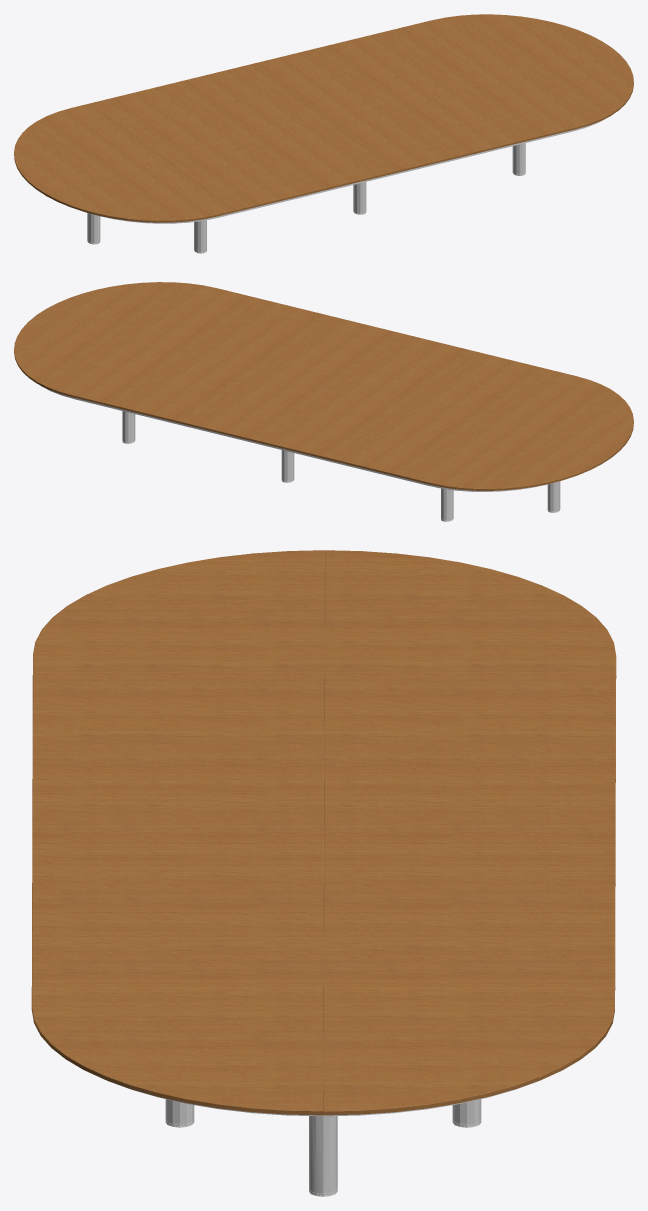
File: table3.FBX
3 renders of one model, top to bottom at view 1: azimuth 30°, elevation 25°; view 2: azimuth 150°, elevation 25°; view 3: azimuth 270°, elevation 25°, orthographic. The views are drawn at different scales.
Visible parts, largest first — view 1: table, zuodi, leg7, leg8, leg6, leg5; view 2: table, zuodi, leg3, leg2, leg4, leg5; view 3: table, leg1.
Boxes of the visible parts, x1,y1,x2,y2 form: table: (14,14,633,222); zuodi: (86,118,606,223); leg7: (353,182,366,213); leg8: (512,143,525,174); leg6: (194,220,206,251); leg5: (87,213,100,242); table: (14,282,633,490); zuodi: (41,386,561,491); leg3: (281,450,294,481); leg2: (122,411,135,442); leg4: (441,488,453,520); leg5: (547,481,560,511); table: (31,550,616,1115); leg1: (309,1116,337,1193).
Size of the model in its own units: 6351 by 720 by 2795.
